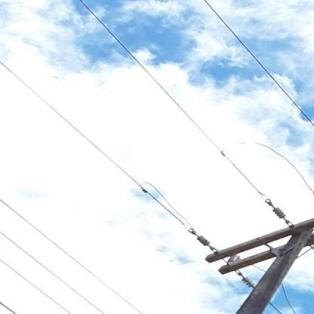Poste: (10, 223, 314, 314)
